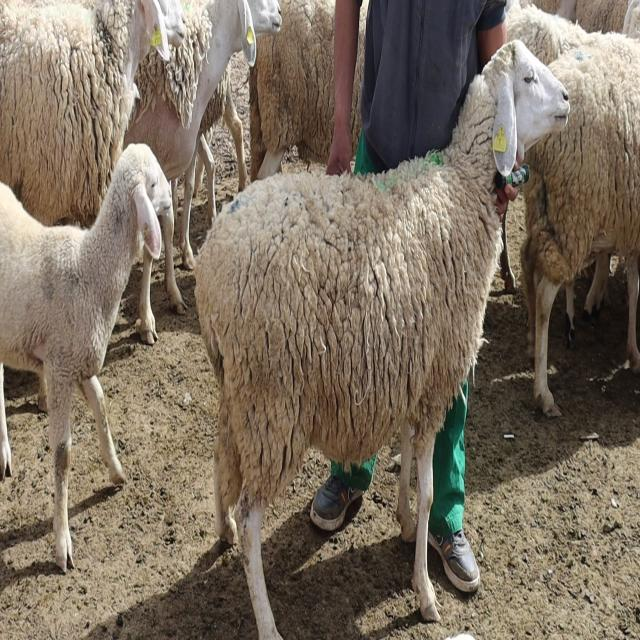Score_3: (195, 40, 570, 639)
